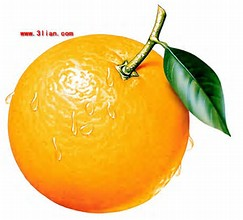orange: (4, 34, 229, 212)
